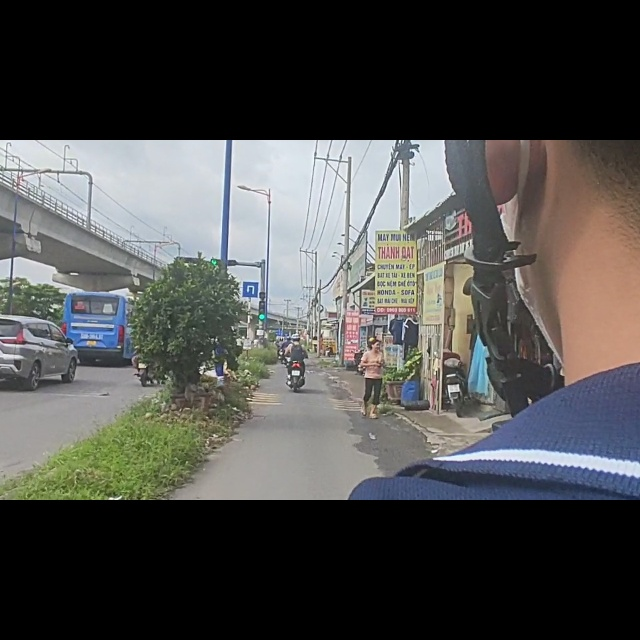bien_chi_dan: (243, 249, 259, 284)
